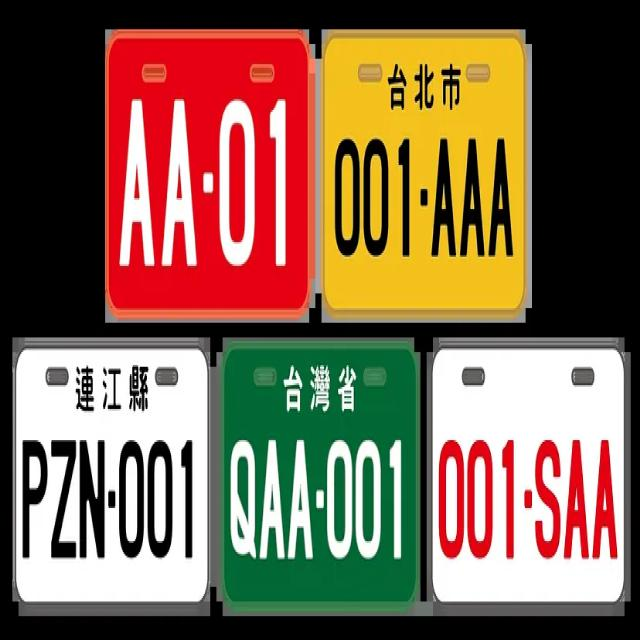license-plate: (320, 29, 526, 317), (107, 31, 309, 316), (222, 339, 418, 608), (14, 343, 209, 605), (431, 346, 626, 605)
